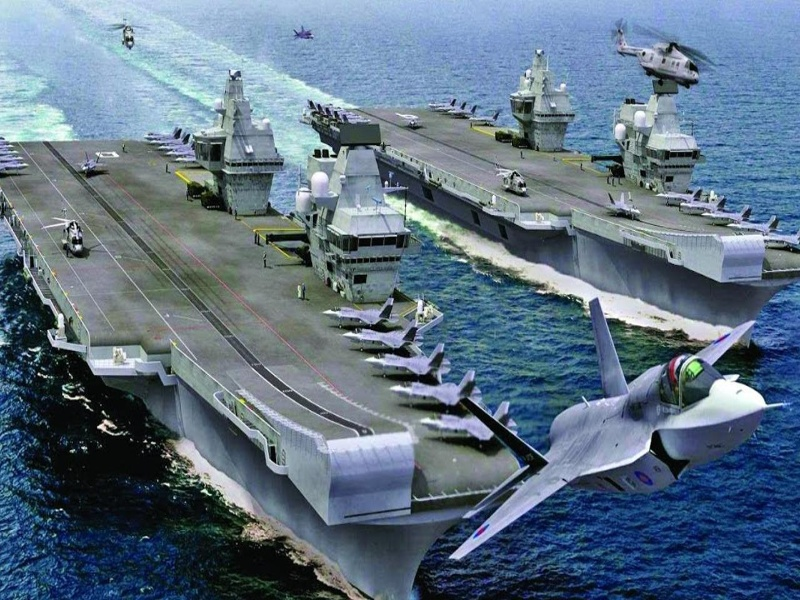carrier: (5, 88, 505, 592), (320, 39, 784, 336)
